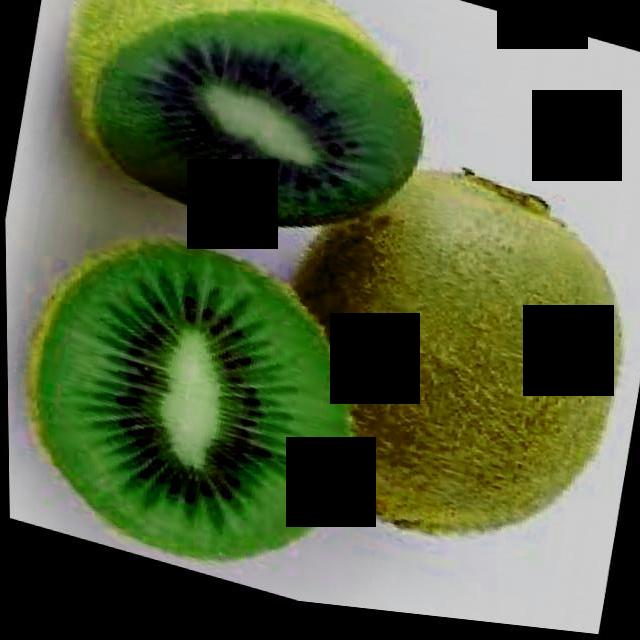kiwi: (259, 130, 640, 592)
